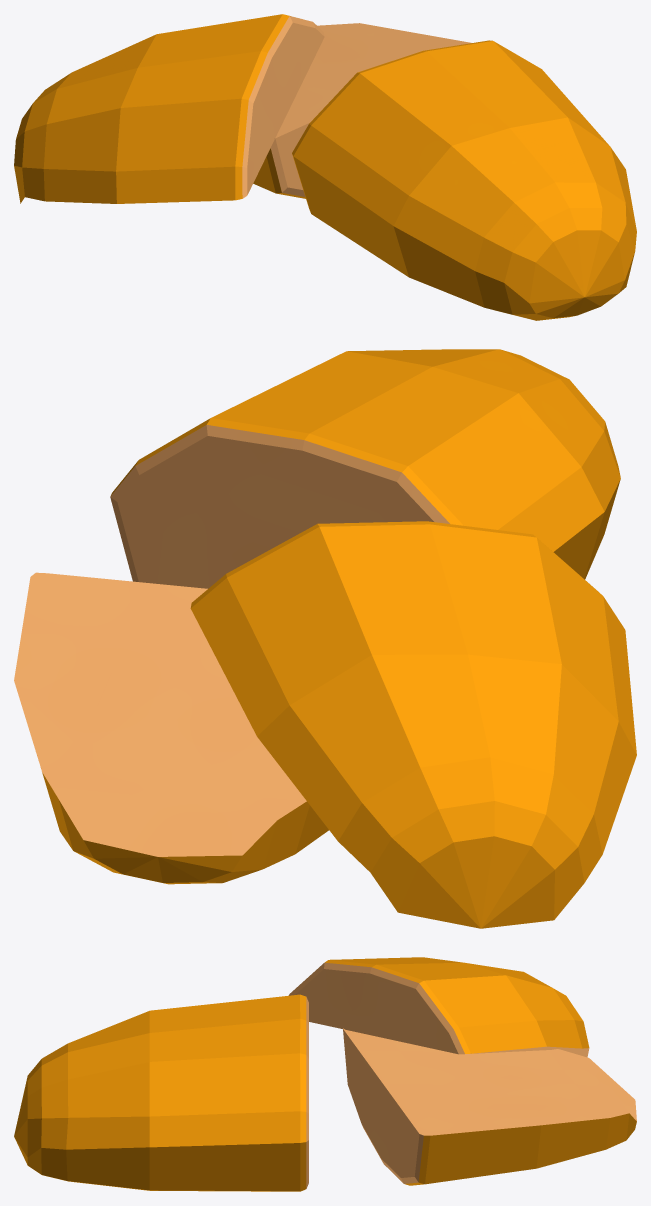
Rendered from Sliced_Bread.fbx.
3 renders of one model, top to bottom at view 1: azimuth 30°, elevation 25°; view 2: azimuth 150°, elevation 25°; view 3: azimuth 270°, elevation 25°, orthographic. The views are drawn at different scales.
Visible parts, largest first — view 1: Sliced Bread; view 2: Sliced Bread; view 3: Sliced Bread.
Part boxes in pixels (x1,y1,x2,y2): Sliced Bread: (14, 14, 636, 320); Sliced Bread: (14, 349, 636, 928); Sliced Bread: (14, 957, 636, 1191).
Bounding box in the file's own units: 18.97 × 7.5 × 26.51.
